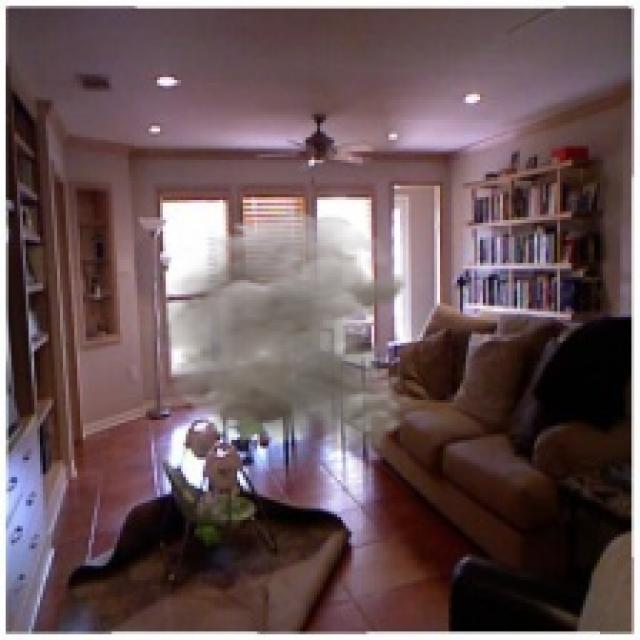Smoke: (137, 212, 414, 454)
